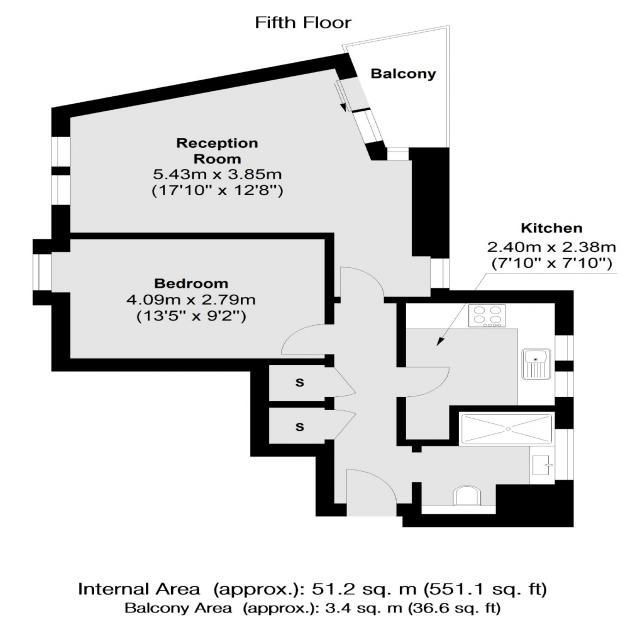DOOR: (344, 467, 399, 516), (396, 365, 451, 398), (280, 323, 335, 356), (338, 266, 385, 303)
ROOM: (51, 52, 450, 304), (32, 232, 335, 372), (396, 290, 574, 446)
WINDOW: (351, 109, 384, 145), (554, 428, 574, 481), (428, 257, 451, 290), (32, 254, 52, 291), (50, 175, 72, 206), (50, 136, 71, 168), (554, 371, 574, 398), (554, 335, 574, 361), (386, 147, 410, 161)
